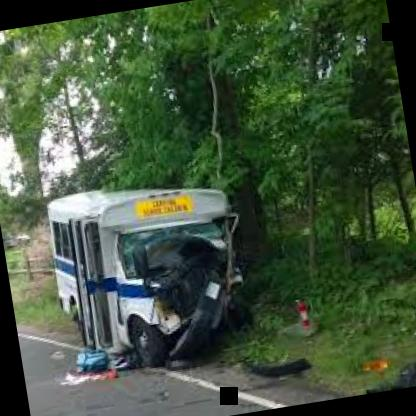accident: (41, 168, 268, 400)
